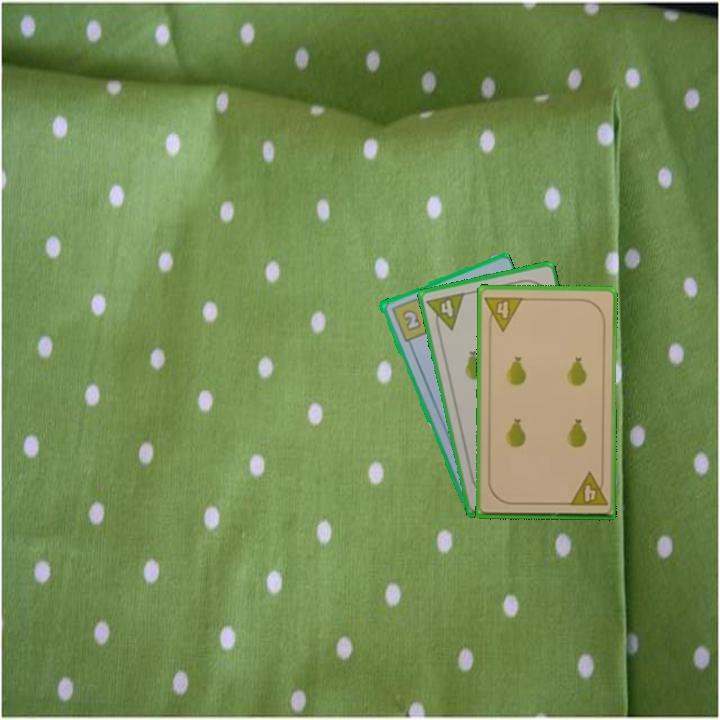2b: (387, 294, 434, 344)
4p: (423, 289, 467, 335), (482, 292, 526, 334), (566, 469, 610, 509)
